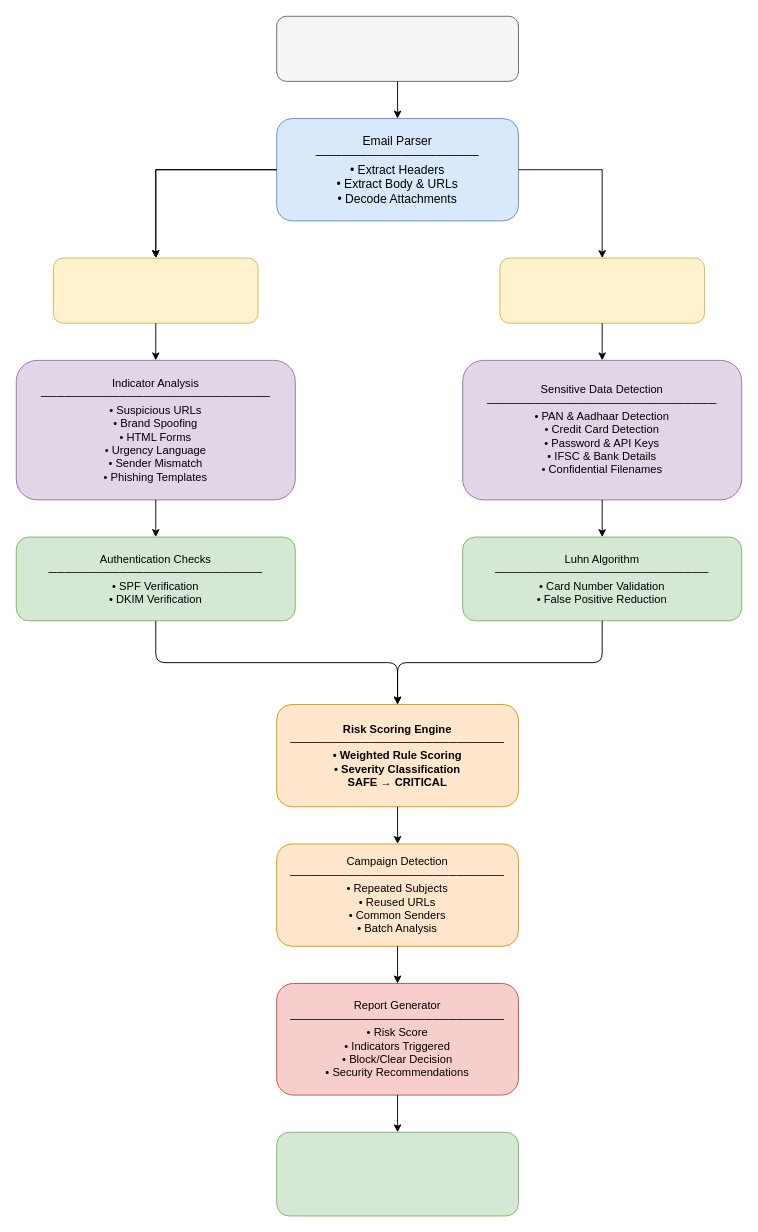
Image size: 758x1232. Some labels were removed from this diagram. The centre of each missing label's shape, as x and y in pixels:
Data Loss Prevention (DLP) Engine: the point at 601,290
Final Output ───────────────────── Incoming: SAFE–CRITICAL Outgoing: BLOCK/CLEAR: the point at 397,1173
Phishing Detection Engine: the point at 155,290
User Input (.eml Email Files): the point at 397,48
